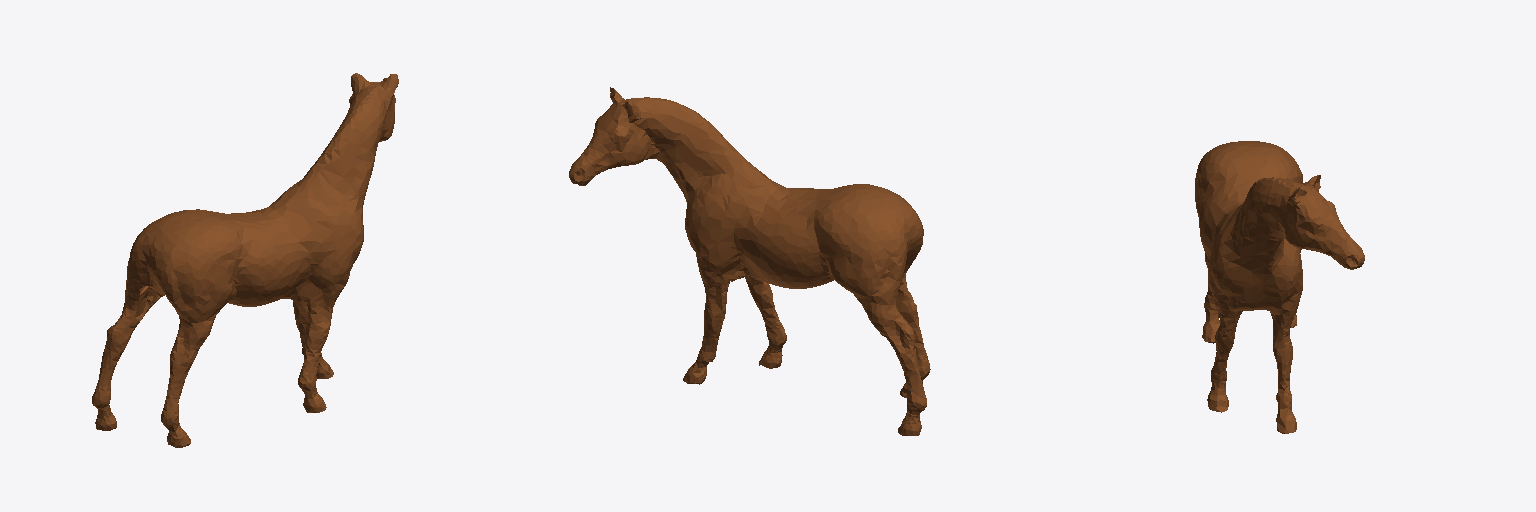
The model's file is horse_normals_uv.obj.
The picture shows the model from 3 angles: view 1: azimuth 30°, elevation 25°; view 2: azimuth 150°, elevation 25°; view 3: azimuth 270°, elevation 25°; orthographic projection.
Parts seen in each view (by area): view 1: horsesmall; view 2: horsesmall; view 3: horsesmall.
Boxes of the visible parts, <box> form: horsesmall: <box>92,73,398,447</box>; horsesmall: <box>569,87,930,435</box>; horsesmall: <box>1195,141,1364,433</box>.
Bounding box in the file's own units: 3.66 × 3.04 × 1.68.